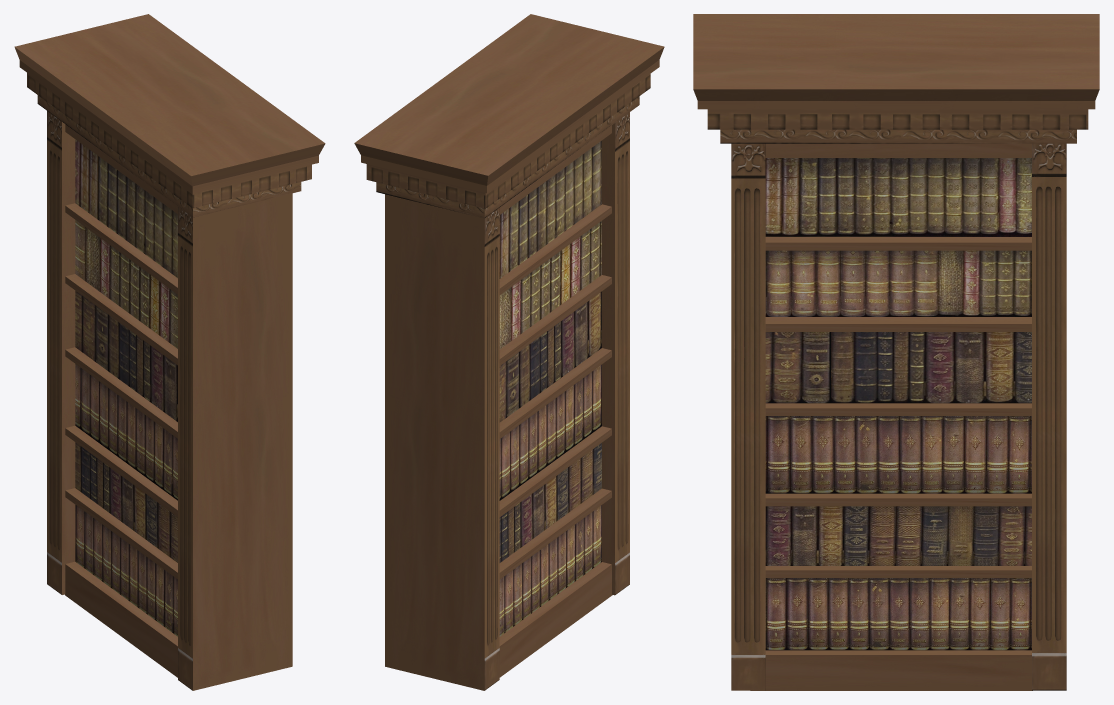
File: short chest book 1.fbx
3 renders of one model, left to right at view 1: azimuth 30°, elevation 25°; view 2: azimuth 150°, elevation 25°; view 3: azimuth 270°, elevation 25°, orthographic. The views are drawn at different scales.
Parts seen in each view (by area): view 1: polySurface519; view 2: polySurface519; view 3: polySurface519.
Part boxes in pixels (x1,y1,x2,y2): polySurface519: (14, 14, 325, 690); polySurface519: (354, 14, 664, 690); polySurface519: (693, 14, 1099, 690).
Size of the model in its own units: 0.9153 by 3.47 by 2.09.
